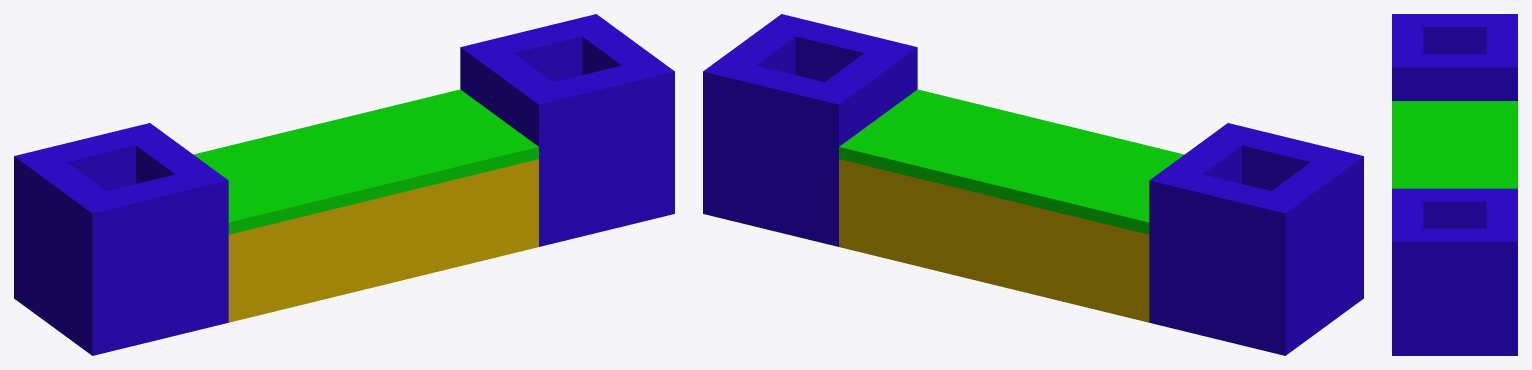
File: bancoconcreto.fbx
3 renders of one model, left to right at view 1: azimuth 30°, elevation 25°; view 2: azimuth 150°, elevation 25°; view 3: azimuth 270°, elevation 25°, orthographic. The views are drawn at different scales.
Parts seen in each view (by area): view 1: Banco; view 2: Banco; view 3: Banco.
Boxes of the visible parts, x1,y1,x2,y2 form: Banco: (14,14,674,355); Banco: (703,14,1363,355); Banco: (1392,14,1517,355).
Size of the model in its own units: 2.75 by 0.6435 by 0.6435.
